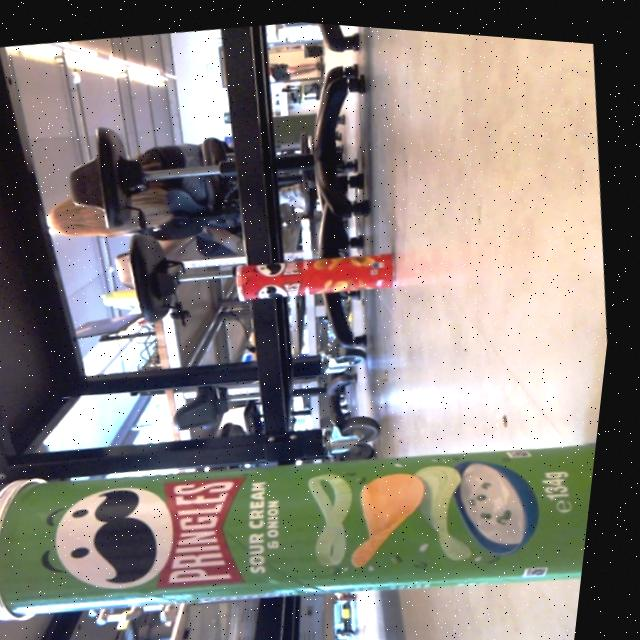greenpringles: (0, 359, 609, 640)
redpringles: (220, 221, 416, 325)
